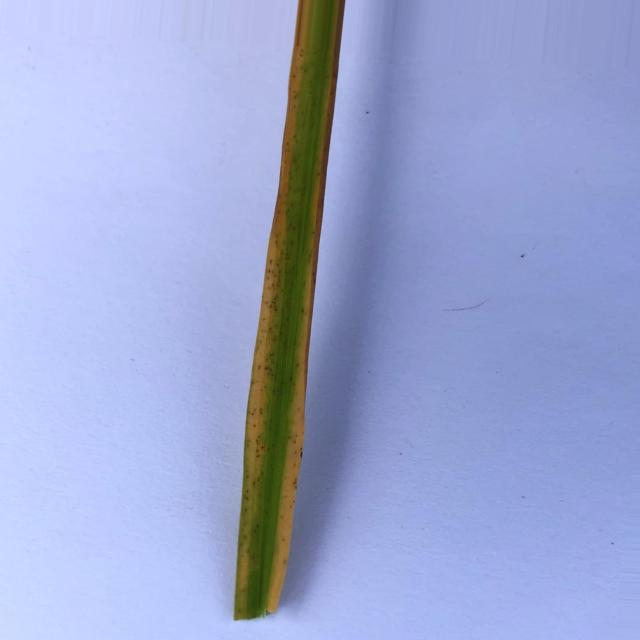Rice Tungro: (235, 0, 311, 620), (267, 31, 338, 612)
